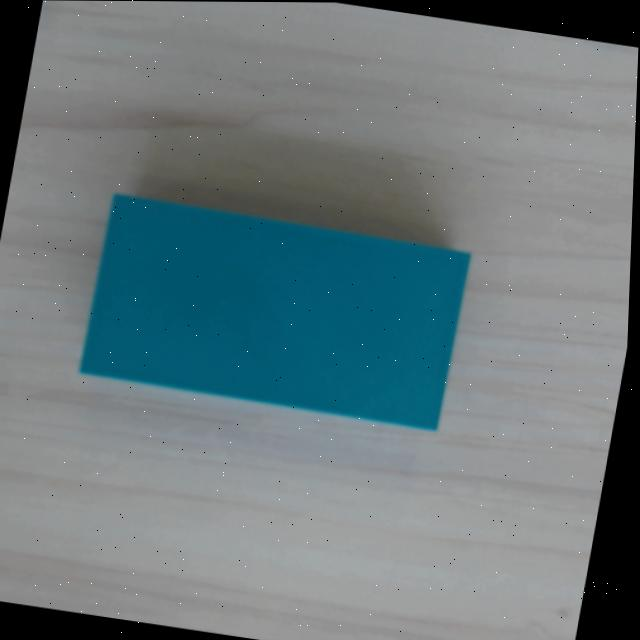Balok-Hijau-1005025: (79, 193, 470, 432)
